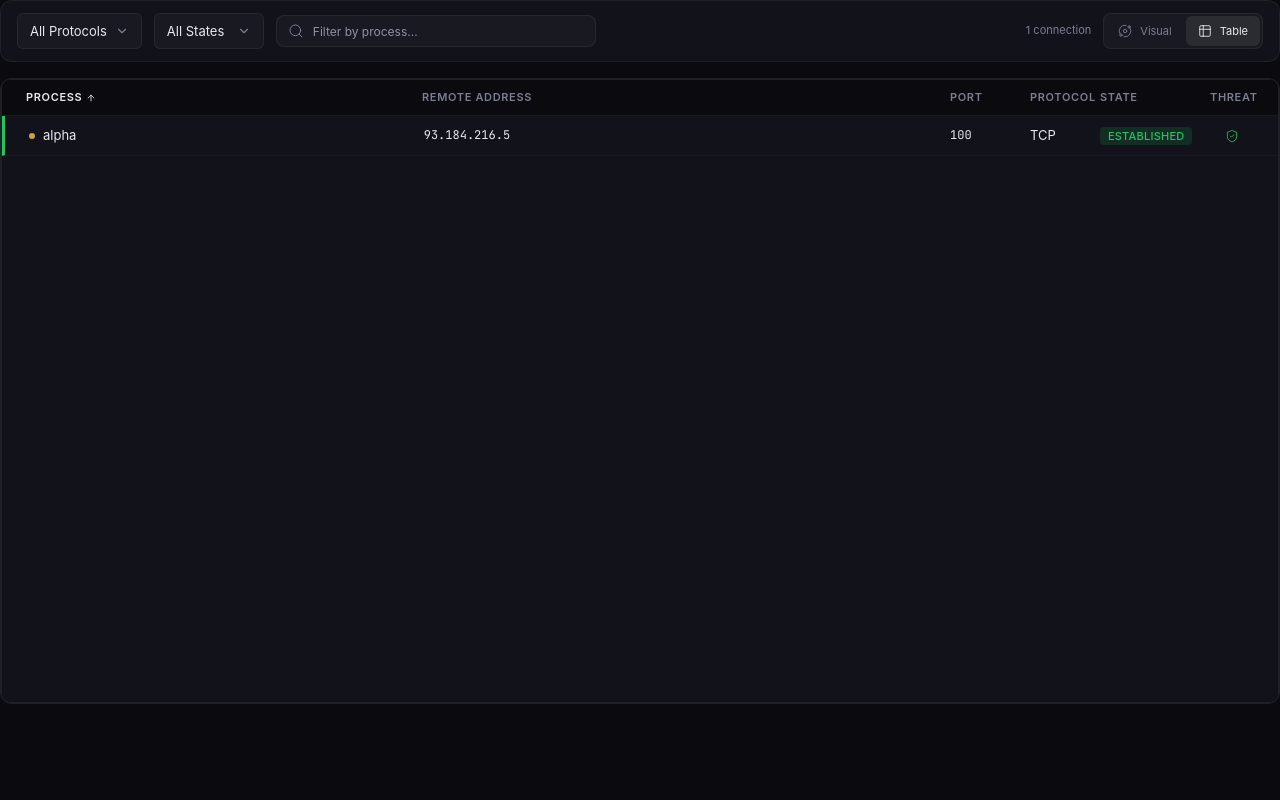
Test: ConnectionsView surfaces whitelist action failures › shows a dismissible role=alert banner with the stripped IPC error
Right-click the text "alpha": [640, 136] box [2,116,1278,156]
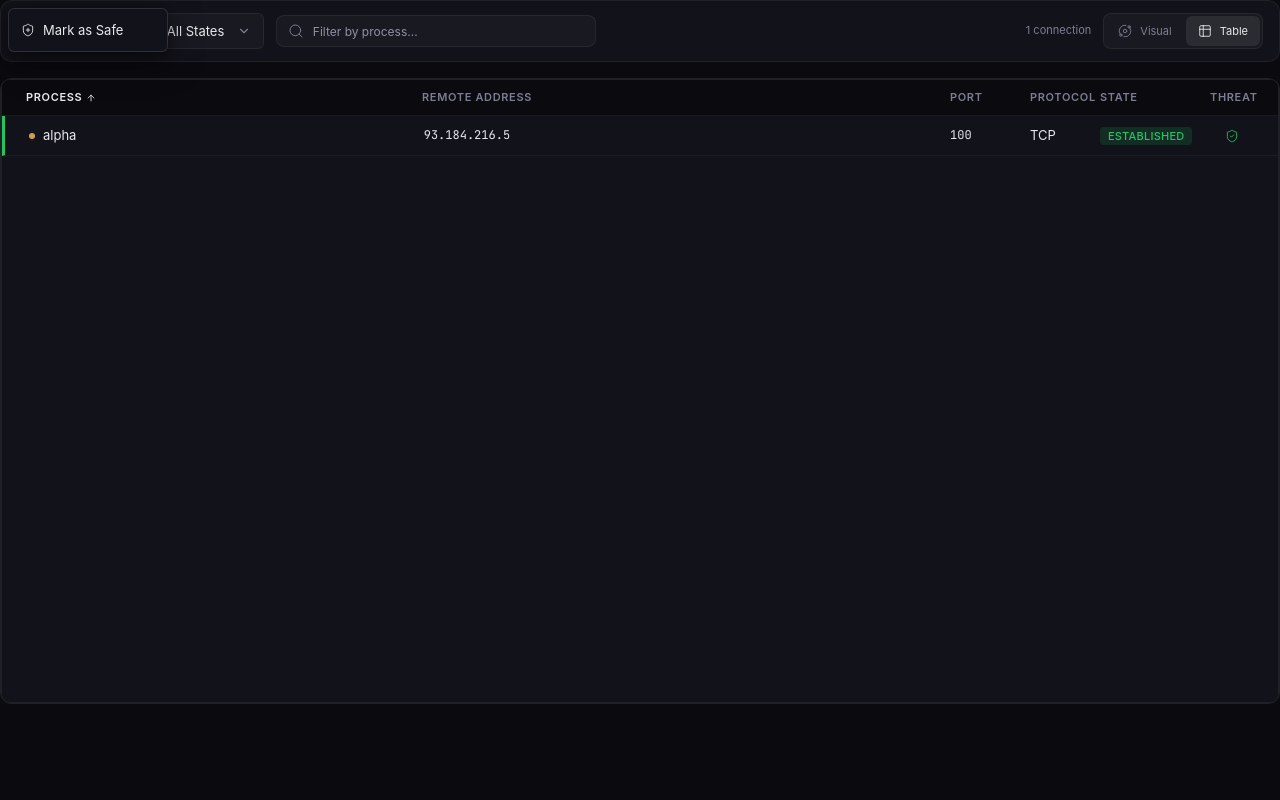
Click the button "Mark as Safe": [88, 30] box [9,13,167,47]
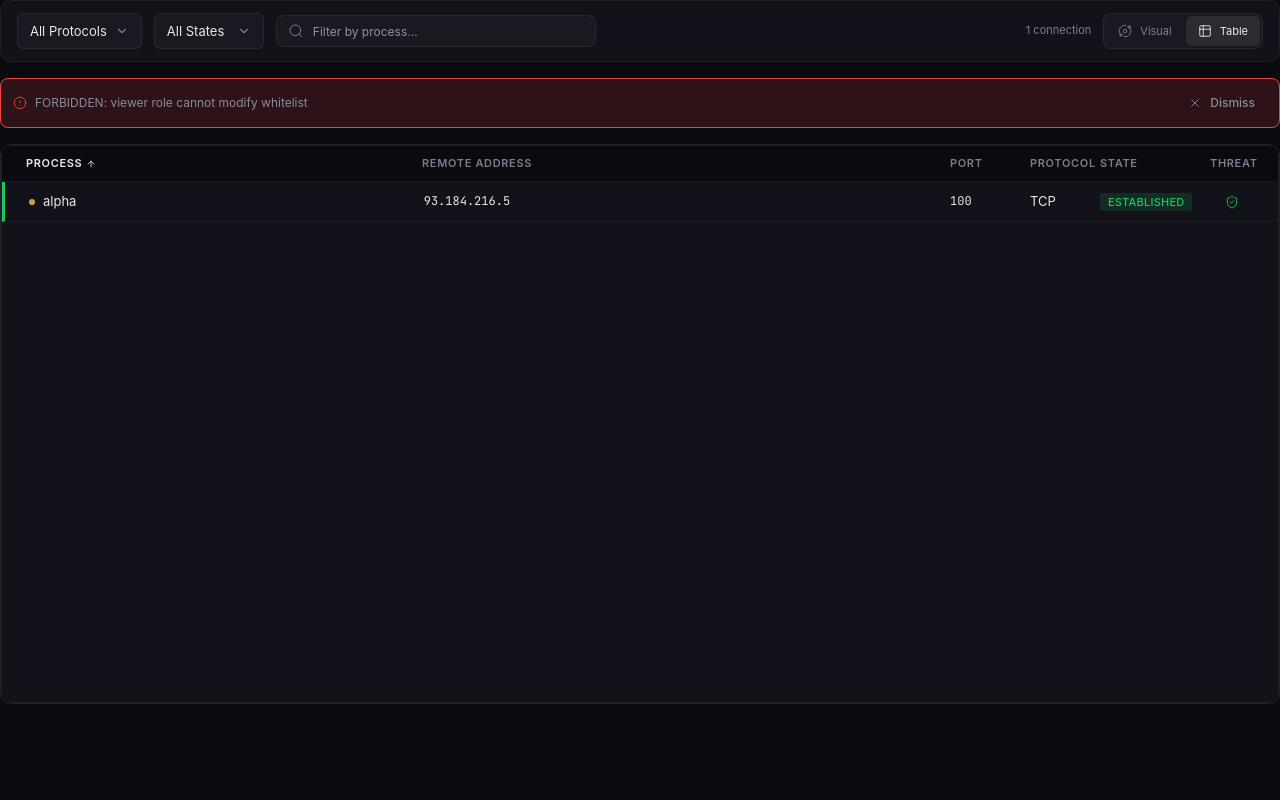
Now the message shows "FORBIDDEN: viewer role cannot modify whitelist", box [35,95,308,110]
Click the button "Dismiss": [1222, 103] box [1176,87,1267,119]
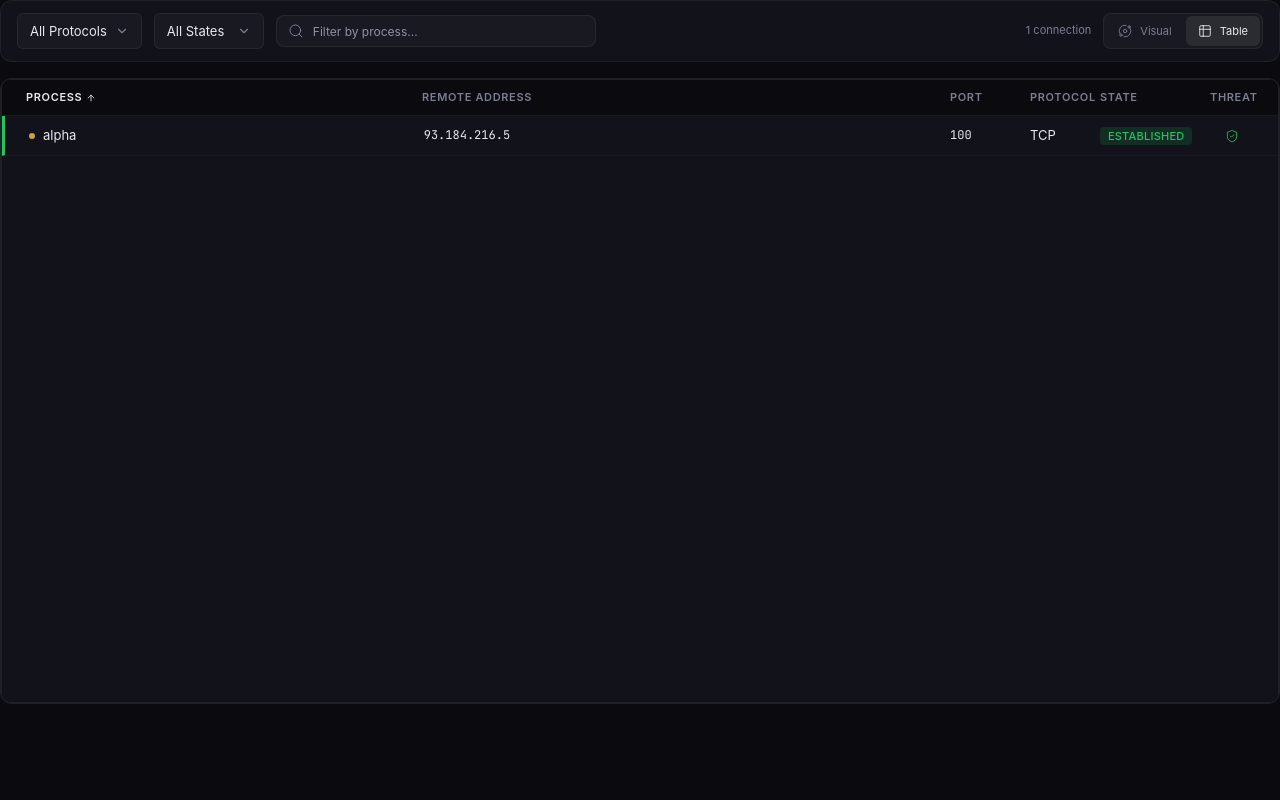
Now the message "FORBIDDEN: viewer role cannot modify whitelist Dismiss" is gone
